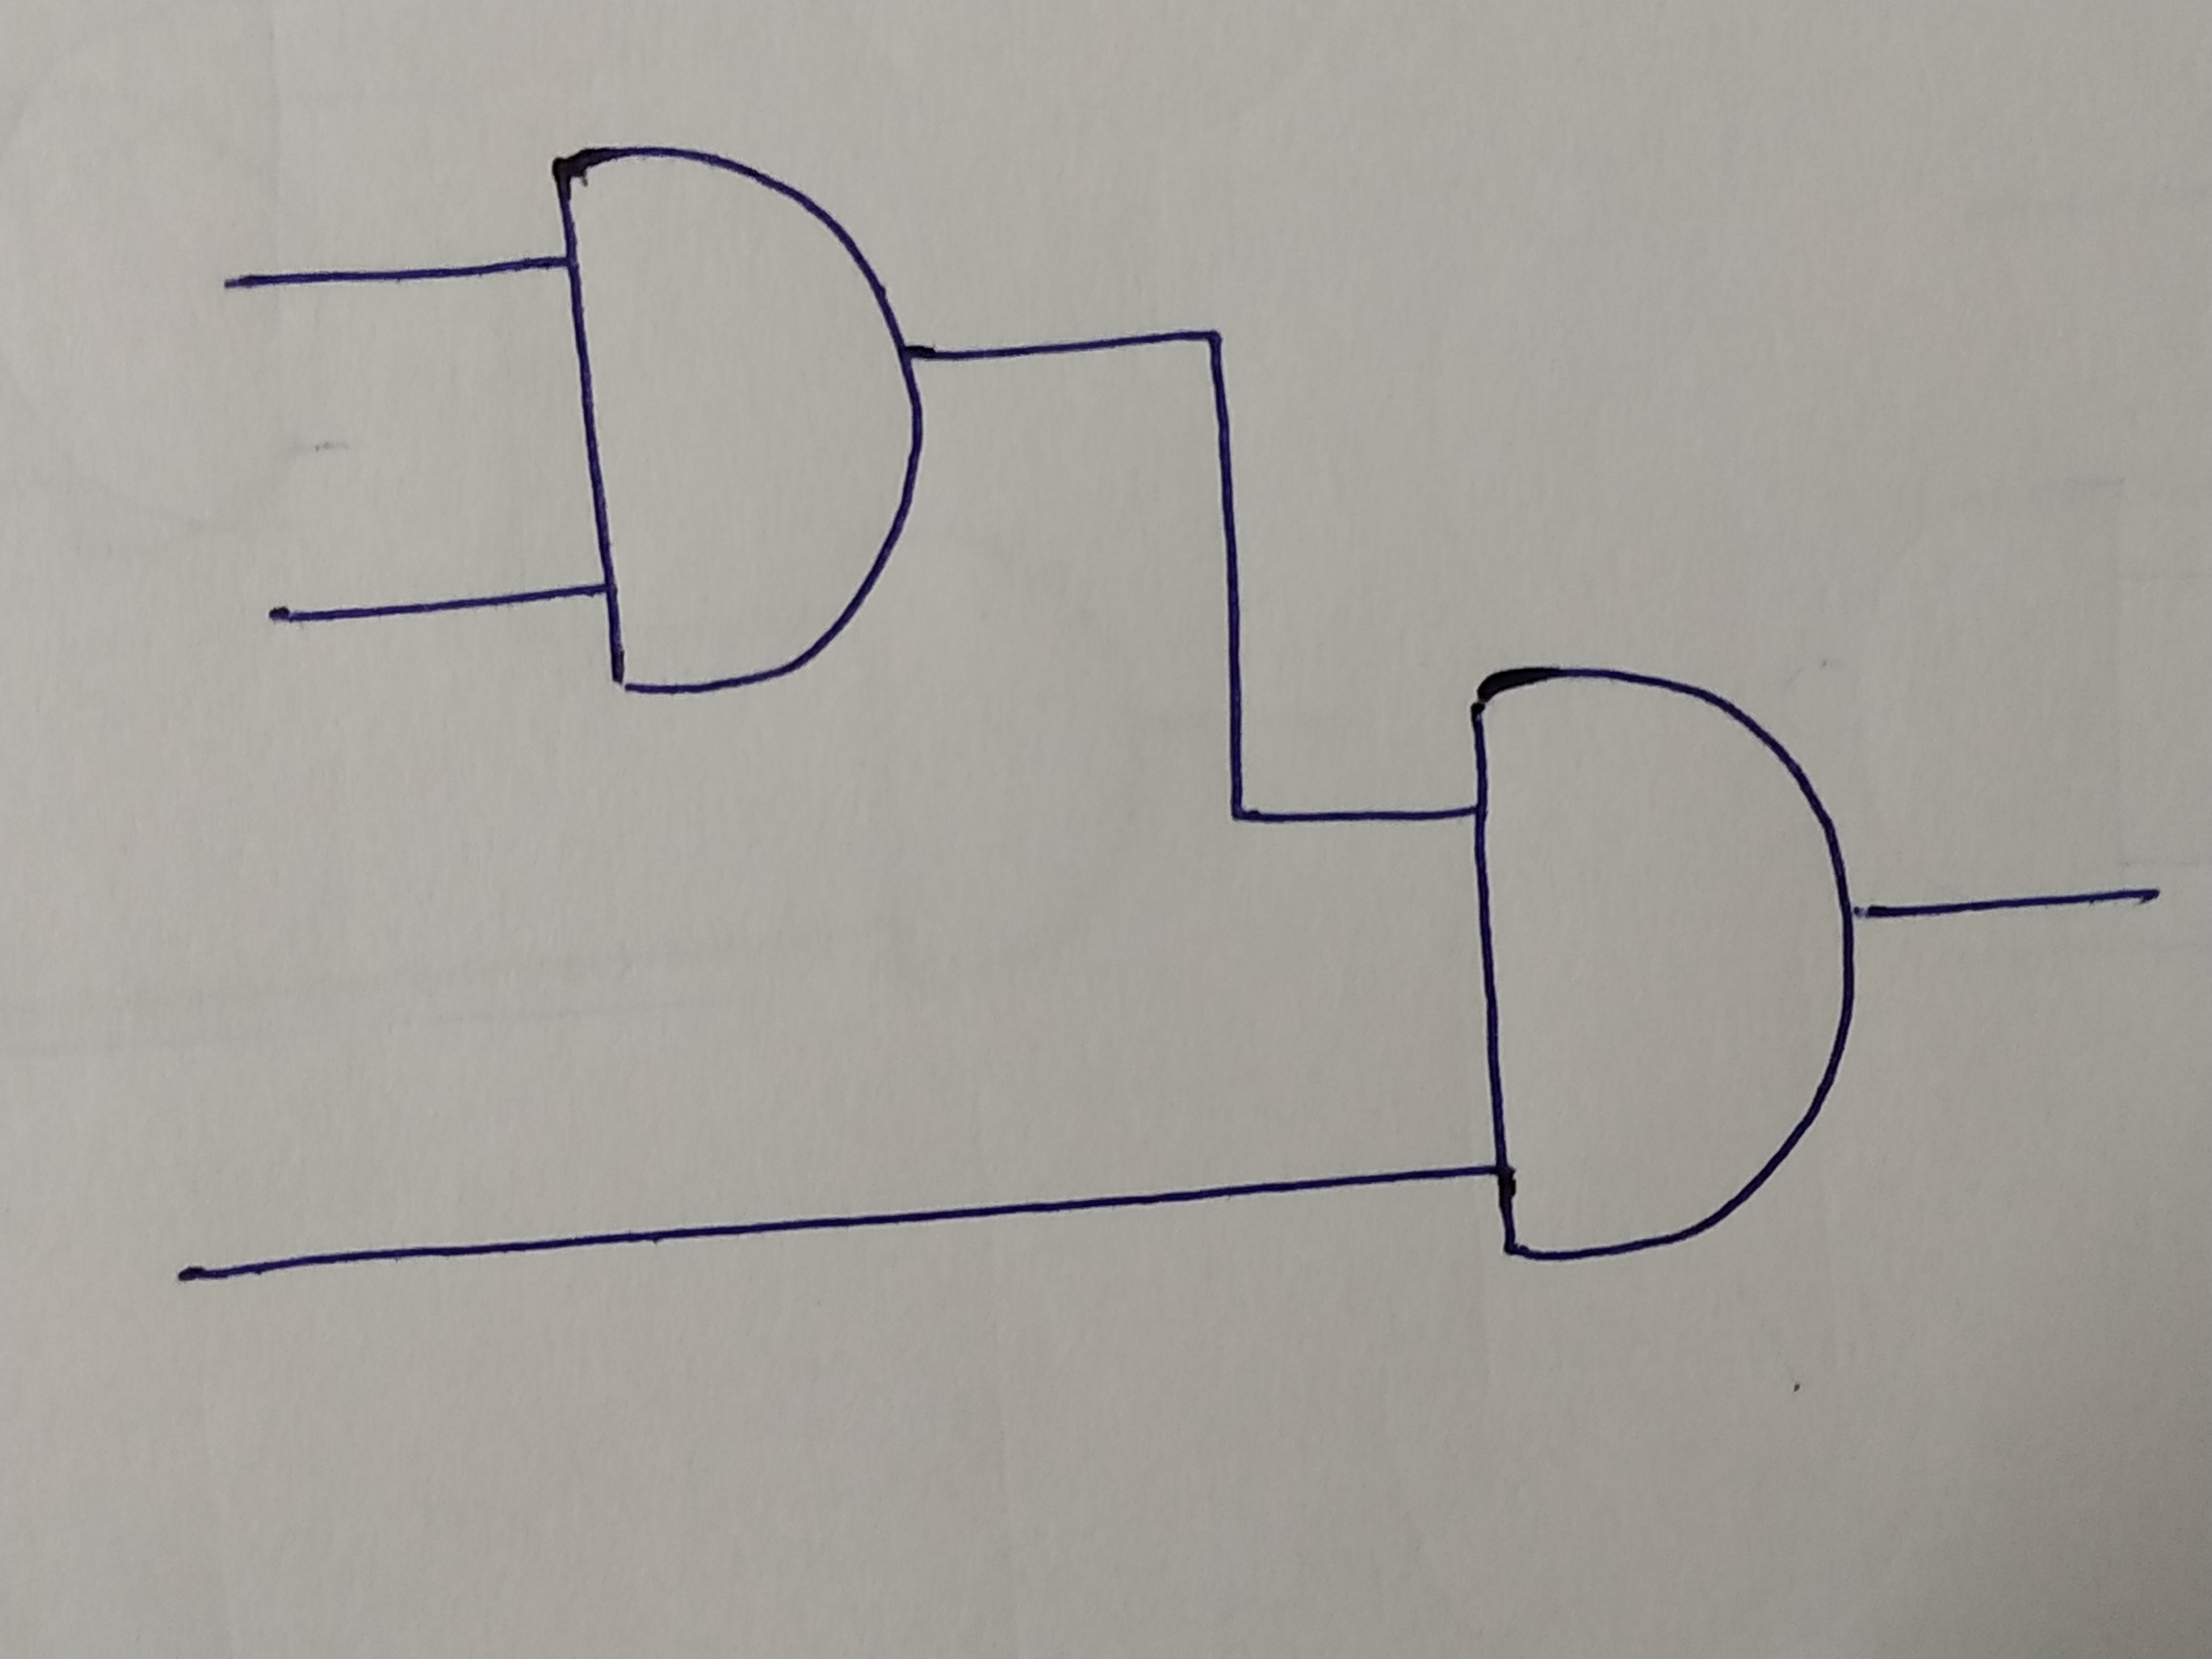and: (1461, 673, 1843, 1262), (557, 145, 914, 692)
